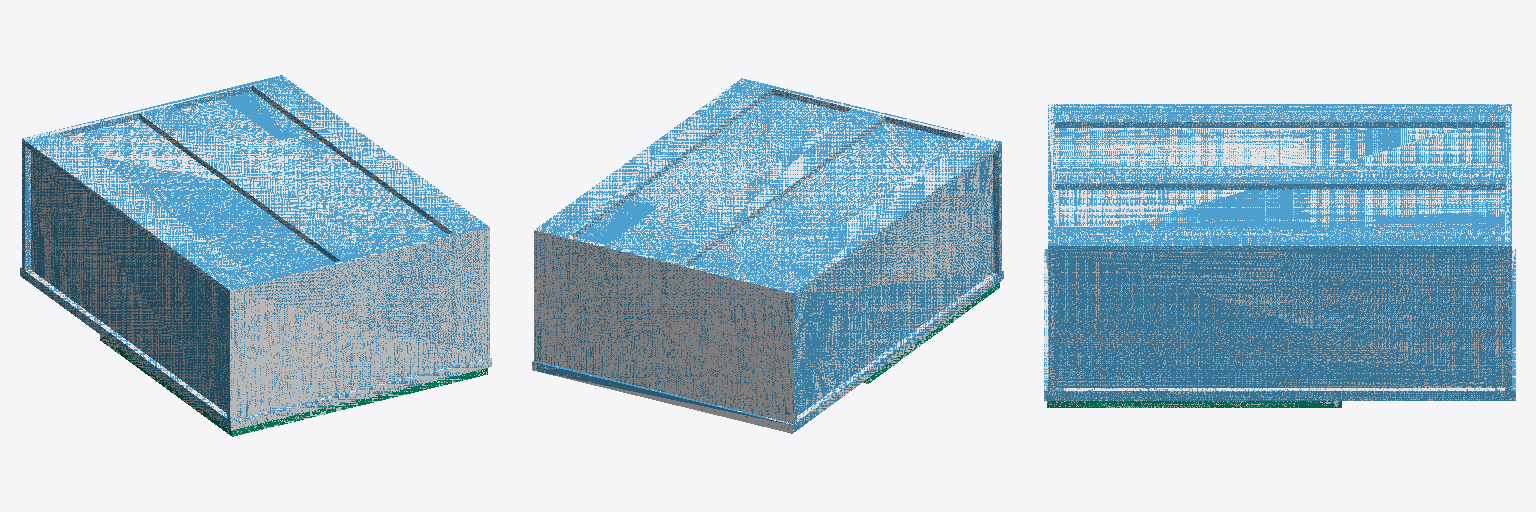
URDF robot description (right-pull-door):
<?xml version="1.0" ?>
<robot name="right-pull-door">
	<link name="base"/>
	<link name="link_0">
		<visual name="out-frame">
			<origin xyz="0 0 0"/>
			<geometry>
				<mesh filename="texture_dae/frame.dae" scale="0.8 0.8 0.8"/>
			</geometry>
		</visual>
		<collision>
			<origin xyz="0 0 0"/>
			<geometry>
				<mesh filename="texture_dae/frame.dae" scale="0.8 0.8 0.8"/>
			</geometry>
		</collision>
	</link>
	<joint name="joint_0" type="fixed">
		<origin rpy="1.570796326794897 0 -1.570796326794897" xyz="0 0 0"/>
		<child link="link_0"/>
		<parent link="base"/>
	</joint>
	<link name="link_1">
		<visual name="surf-board">
			<origin xyz="0.7429513394832612 -0.4004105936485445 0"/>
			<geometry>
				<mesh filename="texture_dae/board.dae" scale="0.8 0.8 0.8"/>
			</geometry>
		</visual>
		<collision>
			<origin xyz="0.7429513394832612 -0.4004105936485445 0"/>
			<geometry>
				<mesh filename="texture_dae/board.dae" scale="0.8 0.8 0.8"/>
			</geometry>
		</collision>
	</link>
	<joint name="joint_1" type="revolute">
		<origin xyz="-0.7429513394832612 0.4004105936485445 0"/>
		<axis xyz="0 -1 0"/>
		<child link="link_1"/>
		<parent link="link_0"/>
		<limit lower="0" upper="1.5079644737231006"/>
	</joint>
	<link name="link_2">
		<visual name="handle">
			<origin xyz="0 0 0"/>
			<geometry>
				<mesh filename="texture_dae/9962041.dae" scale="1.218982641150553 1.218982641150553 1.218982641150553"/>
			</geometry>
		</visual>
		<collision>
			<origin xyz="0 0 0"/>
			<geometry>
				<mesh filename="texture_dae/9962041.dae" scale="1.218982641150553 1.218982641150553 1.218982641150553"/>
			</geometry>
		</collision>
	</link>
	<joint name="joint_2" type="revolute">
		<origin xyz="0.7429513394832612 -0.4004105936485445 0.014583731939361978"/>
		<child link="link_2"/>
		<parent link="link_1"/>
		<axis xyz="0 0 1"/>
		<limit lower="0" upper="1.5079644737231006"/>
	</joint>
</robot>

--- Render facts (derived) ---
The picture shows the robot from 3 angles, left to right: view 1: azimuth 30°, elevation 25°; view 2: azimuth 150°, elevation 25°; view 3: azimuth 270°, elevation 25°; orthographic projection.
Robot: right-pull-door — 4 links, 3 joints (2 revolute, 1 fixed); root link base; default pose: every joint at zero.
Links seen in each view (by area): view 1: link_0, link_1; view 2: link_0, link_1; view 3: link_0, link_1.
Link boxes in pixels (<box>): link_0: <box>20,75,491,430</box>; link_1: <box>100,335,487,436</box>; link_0: <box>532,78,1003,433</box>; link_1: <box>863,282,999,383</box>; link_0: <box>1044,104,1515,400</box>; link_1: <box>1047,401,1341,407</box>.
Size in the robot's own frame: 0.9069 by 1.27 by 0.4889 metres.
2 mesh visuals loaded from 3 distinct referenced files (2 Collada DAE); not drawn: 1 (reference not matched to a file when rendering).
